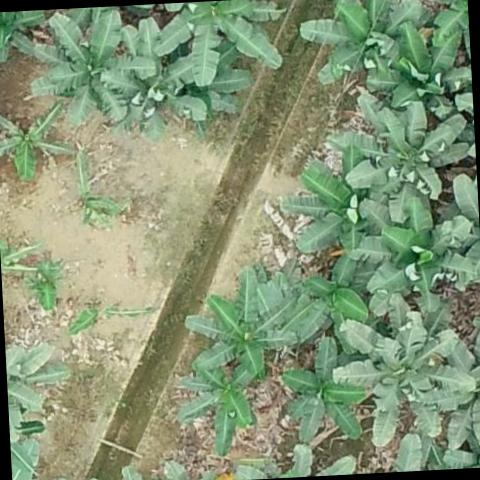Banana-plant: (332, 298, 479, 446), (27, 5, 154, 120), (348, 91, 476, 204), (112, 20, 217, 134), (363, 191, 473, 296), (372, 12, 474, 118), (184, 272, 292, 372), (277, 145, 377, 252), (152, 0, 281, 71), (300, 0, 400, 84), (283, 339, 363, 442), (168, 363, 257, 455), (298, 248, 374, 338), (0, 102, 71, 180)
